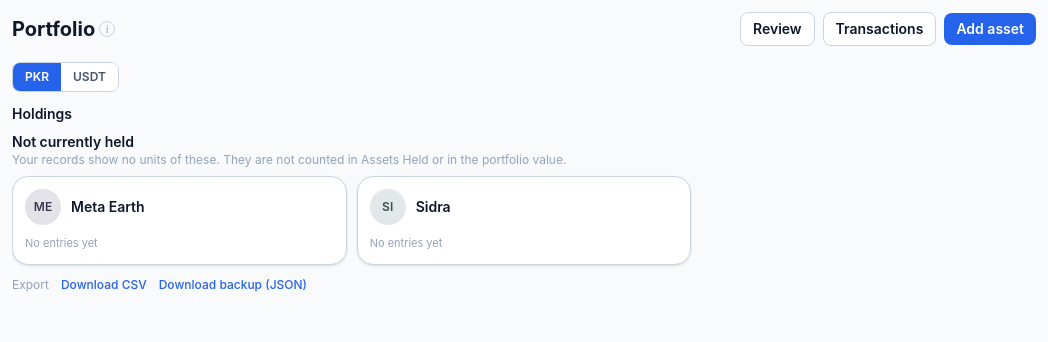
Test case: All transactions › imported entries that are not counted say why; costs that are not recorded are not shown as zero
The image size is (1048, 342).
Click the button "Transactions" at (880, 29), box 823,12 -> 936,46
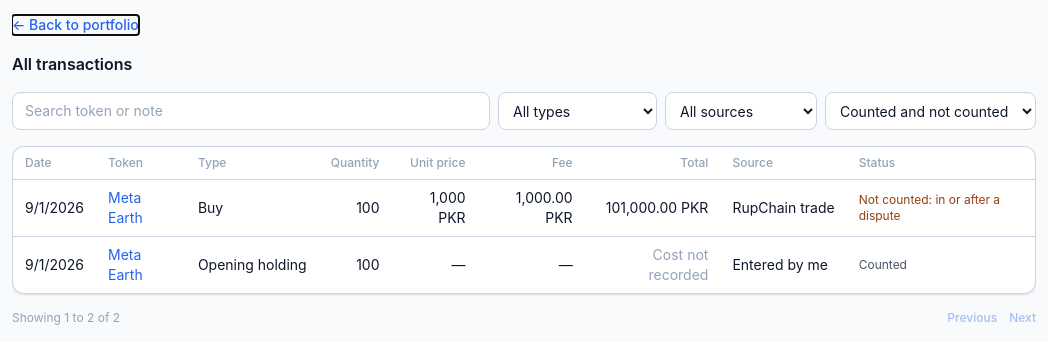
Result: the text "Not counted: in or after a dispute" is shown at 859,192 -> 1000,223
Result: the text "Cost not recorded" is shown at 648,246 -> 708,283
